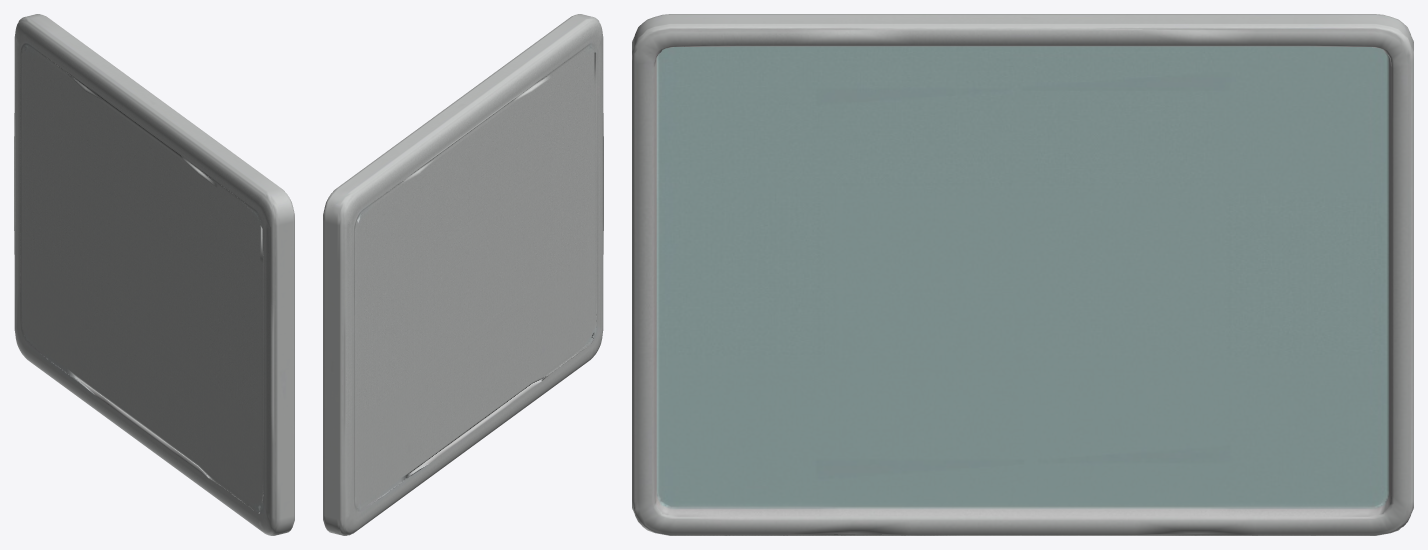
File: tripo_convert_96d98e9b-8e84-4f83-bee4-8375c7233707.fbx
3 views of the same model, side by side, from view 1: azimuth 30°, elevation 25°; view 2: azimuth 150°, elevation 25°; view 3: azimuth 270°, elevation 25° (orthographic). The views are drawn at different scales.
Parts seen in each view (by area): view 1: tripo_node_96d98e9b; view 2: tripo_node_96d98e9b; view 3: tripo_node_96d98e9b.
Boxes of the visible parts, bbox=[...] form: tripo_node_96d98e9b: bbox=[14, 14, 294, 535]; tripo_node_96d98e9b: bbox=[323, 14, 603, 535]; tripo_node_96d98e9b: bbox=[632, 14, 1413, 535].
Size of the model in its own units: 0.0527 by 0.7207 by 0.998.
1 material, 1 textured.
